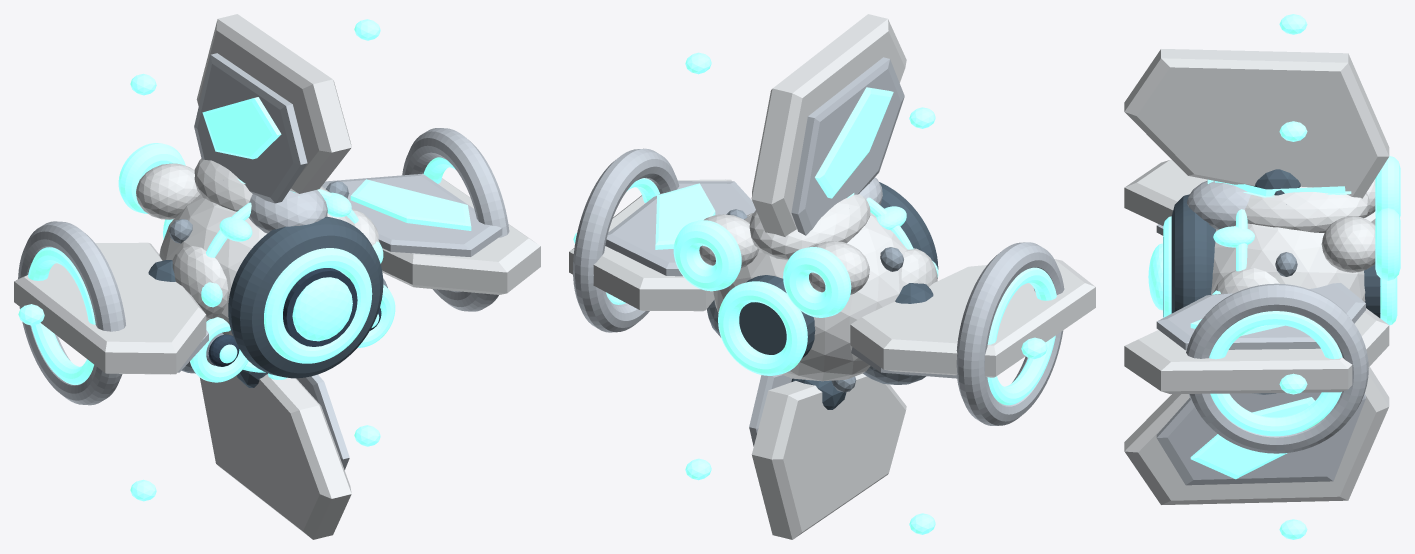
The model's file is drone_a.glb.
3 renders of one model, left to right at view 1: azimuth 30°, elevation 25°; view 2: azimuth 150°, elevation 25°; view 3: azimuth 270°, elevation 25°, orthographic. The views are drawn at different scales.
Visible parts, largest first — view 1: hp_shield_fin_primary_042, hp_shield_fin_primary_037, front_reactor_bearing_003, hp_shield_fin_primary_032, hp_shield_fin_metal_ridge_033, hp_side_shield_emitter_047, hp_shield_fin_primary_027, hp_side_shield_emitter_049, hp_shield_fin_metal_ridge_028, emission_ring_004, central_reactor_hull_001, hp_shield_fin_energy_track_029 (+14 smaller); view 2: hp_shield_fin_primary_042, hp_shield_fin_primary_037, hp_shield_fin_primary_032, hp_side_shield_emitter_047, central_reactor_hull_001, hp_shield_fin_metal_ridge_033, hp_side_shield_emitter_049, hp_shield_fin_primary_027, aft_thruster_emission_026, hp_shield_fin_metal_ridge_028, side_propulsion_ring_072, hp_shield_fin_energy_track_034 (+12 smaller); view 3: hp_shield_fin_primary_032, hp_shield_fin_primary_027, hp_side_shield_emitter_049, hp_shield_fin_primary_042, hp_shield_fin_metal_ridge_043, central_reactor_hull_001, hp_side_aurora_050, hp_shield_fin_metal_ridge_028, front_reactor_bearing_003, dorsal_armor_back_057, hp_shield_fin_primary_037, hp_shield_fin_energy_track_044 (+18 smaller).
Boxes of the visible parts, bbox=[...] form: hp_shield_fin_primary_042: bbox=[200, 374, 351, 539]; hp_shield_fin_primary_037: bbox=[14, 242, 206, 374]; front_reactor_bearing_003: bbox=[228, 216, 383, 378]; hp_shield_fin_primary_032: bbox=[196, 14, 351, 193]; hp_shield_fin_metal_ridge_033: bbox=[194, 53, 307, 203]; hp_side_shield_emitter_047: bbox=[18, 221, 125, 405]; hp_shield_fin_primary_027: bbox=[380, 178, 540, 294]; hp_side_shield_emitter_049: bbox=[402, 128, 509, 311]; hp_shield_fin_metal_ridge_028: bbox=[322, 173, 502, 256]; emission_ring_004: bbox=[264, 248, 372, 363]; central_reactor_hull_001: bbox=[159, 186, 355, 335]; hp_shield_fin_energy_track_029: bbox=[350, 179, 471, 230]; hp_shield_fin_primary_042: bbox=[751, 373, 906, 539]; hp_shield_fin_primary_037: bbox=[850, 259, 1095, 377]; hp_shield_fin_primary_032: bbox=[751, 14, 906, 236]; hp_side_shield_emitter_047: bbox=[956, 242, 1064, 425]; central_reactor_hull_001: bbox=[713, 212, 907, 381]; hp_shield_fin_metal_ridge_033: bbox=[791, 57, 904, 235]; hp_side_shield_emitter_049: bbox=[573, 148, 679, 332]; hp_shield_fin_primary_027: bbox=[569, 179, 731, 311]; aft_thruster_emission_026: bbox=[718, 281, 807, 375]; hp_shield_fin_metal_ridge_028: bbox=[605, 181, 755, 276]; side_propulsion_ring_072: bbox=[673, 220, 741, 291]; hp_shield_fin_energy_track_034: bbox=[815, 87, 893, 198]; hp_shield_fin_primary_032: bbox=[1124, 49, 1389, 198]; hp_shield_fin_primary_027: bbox=[1124, 308, 1389, 394]; hp_side_shield_emitter_049: bbox=[1186, 283, 1368, 453]; hp_shield_fin_primary_042: bbox=[1124, 366, 1389, 504]; hp_shield_fin_metal_ridge_043: bbox=[1156, 392, 1365, 485]; central_reactor_hull_001: bbox=[1211, 223, 1365, 301]; hp_side_aurora_050: bbox=[1209, 311, 1342, 436]; hp_shield_fin_metal_ridge_028: bbox=[1156, 283, 1365, 350]; front_reactor_bearing_003: bbox=[1171, 194, 1215, 313]; dorsal_armor_back_057: bbox=[1245, 186, 1370, 232]; hp_shield_fin_primary_037: bbox=[1124, 159, 1375, 225]; hp_shield_fin_energy_track_044: bbox=[1190, 397, 1314, 479].
Size of the model in its own units: 3.78 by 3.5 by 1.96.
